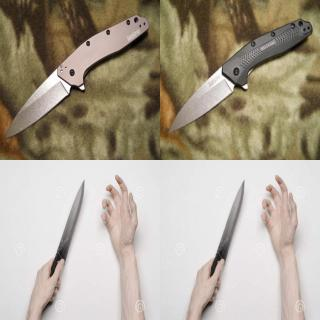knife: (2, 63, 74, 143), (165, 60, 238, 138), (205, 176, 247, 285), (46, 176, 86, 285)
